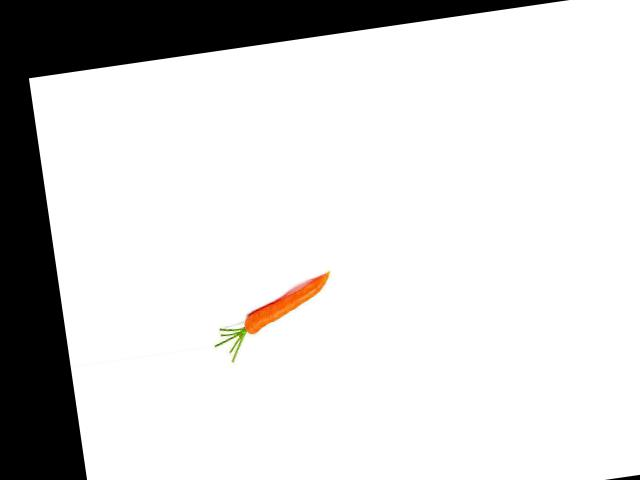carrot: (227, 270, 340, 343)
